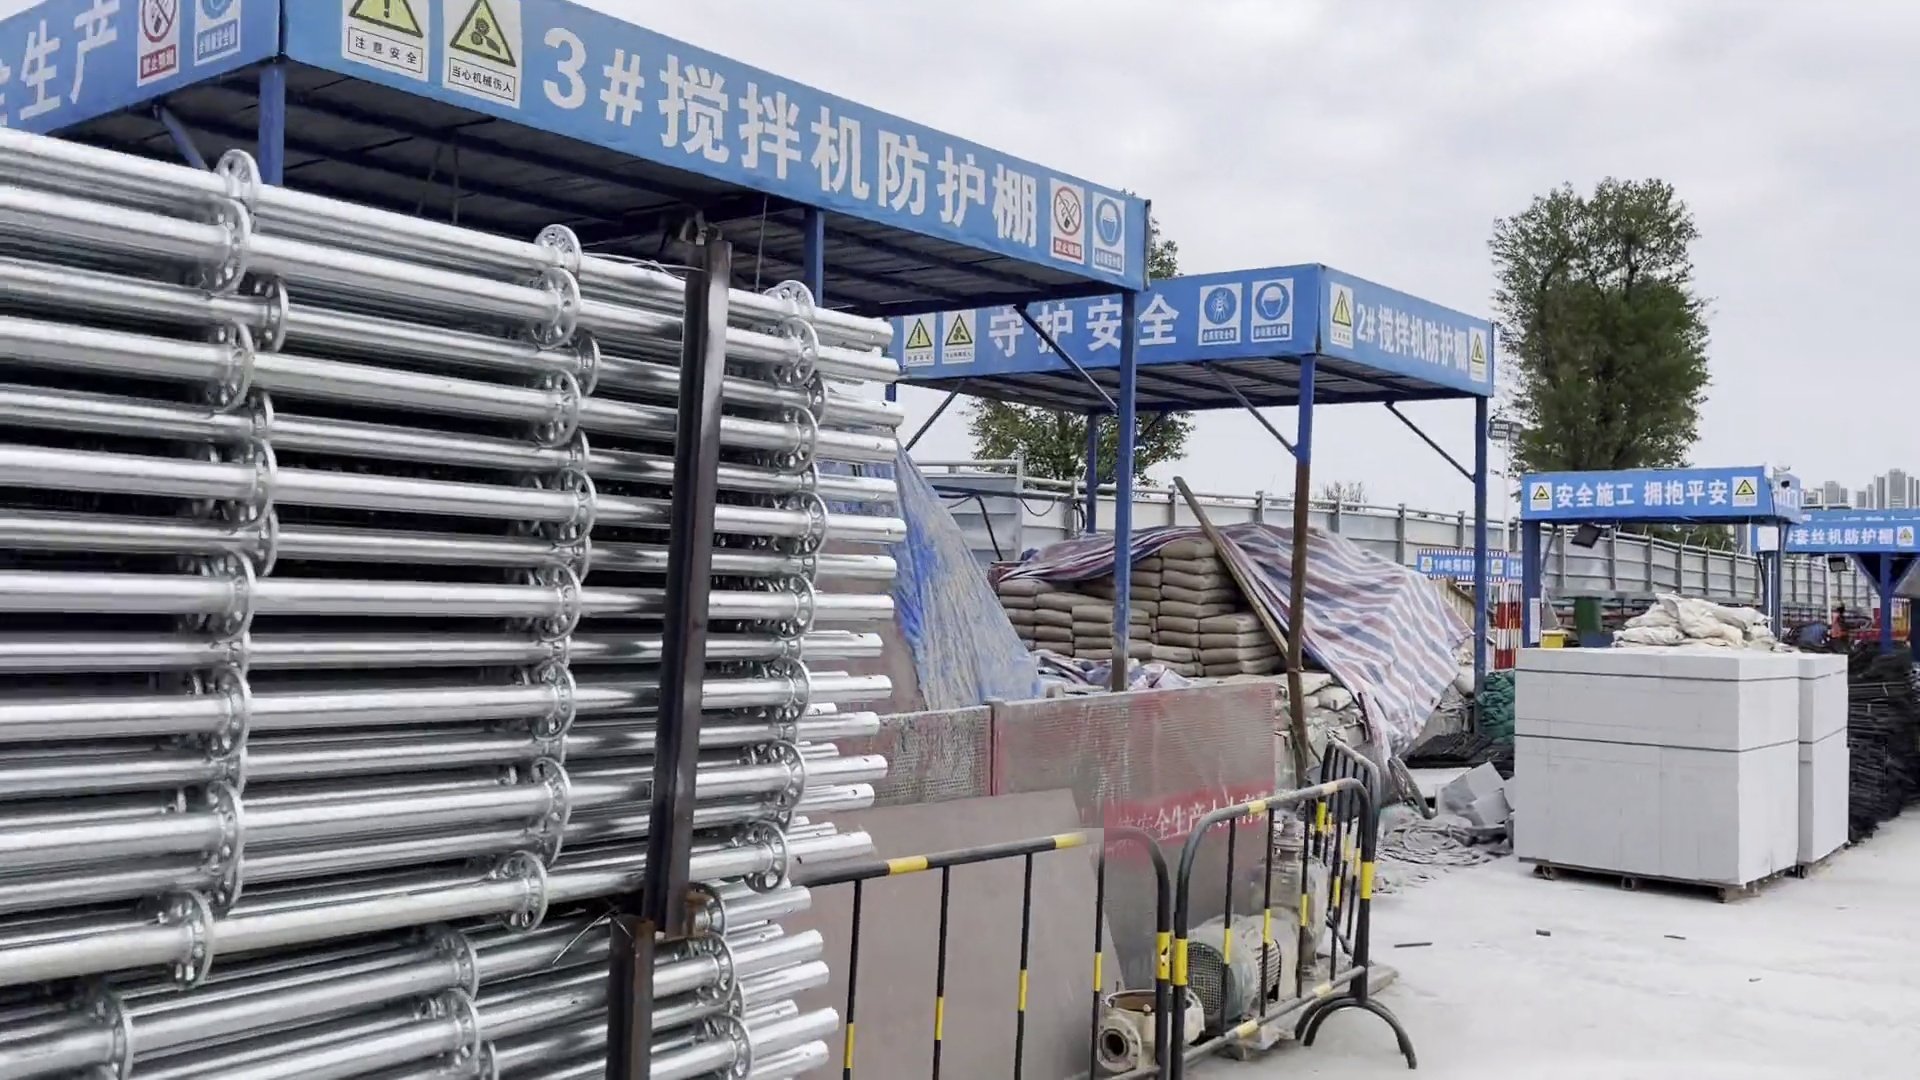brick: (1507, 622, 1865, 895)
scaffold: (1, 98, 944, 894), (22, 806, 988, 1080)
slogan: (981, 285, 1180, 360), (1, 16, 128, 113), (1571, 468, 1706, 516)
